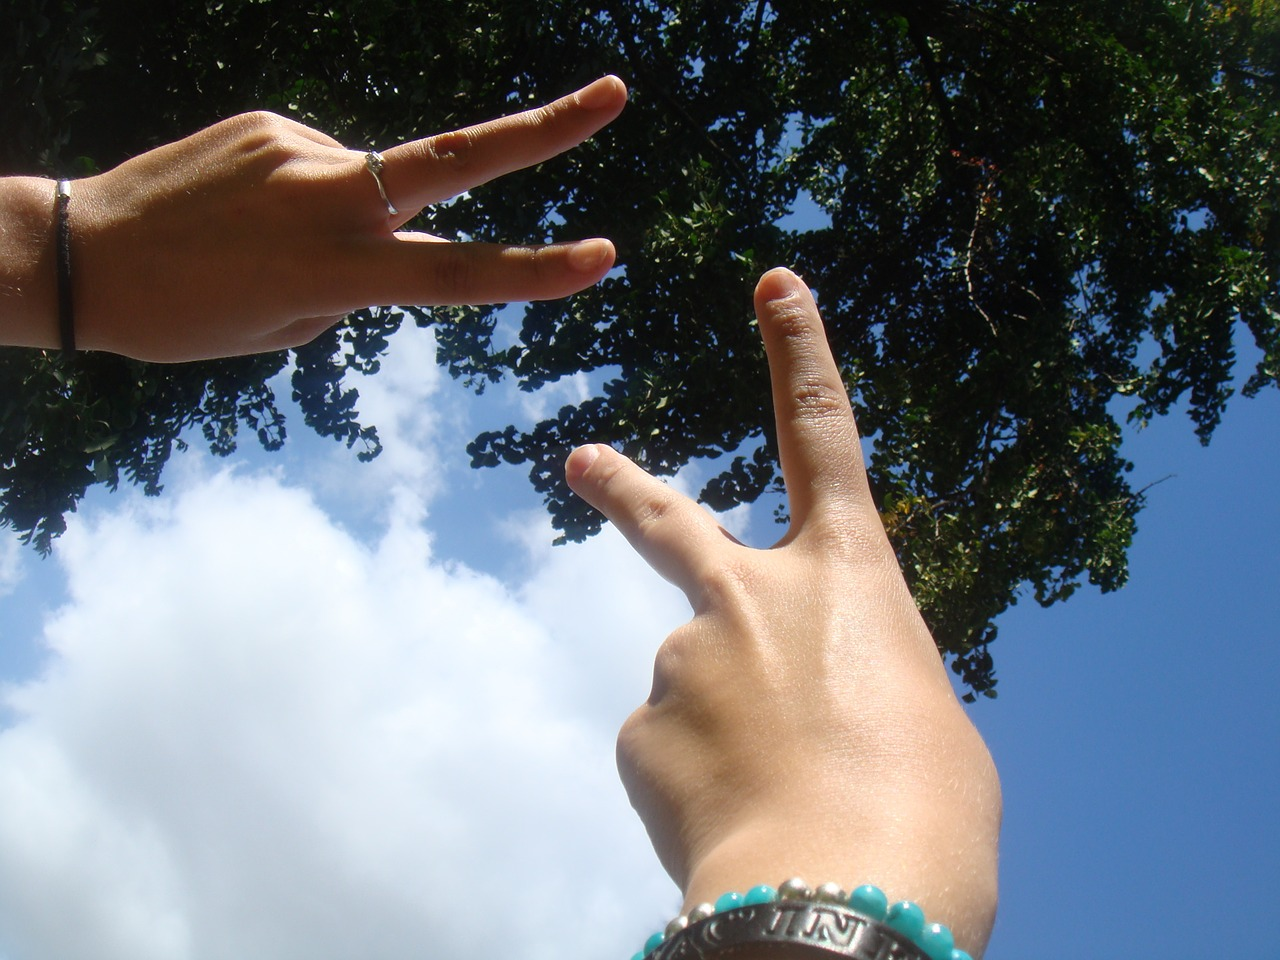peacesign: (553, 259, 1040, 903), (79, 73, 624, 381)
